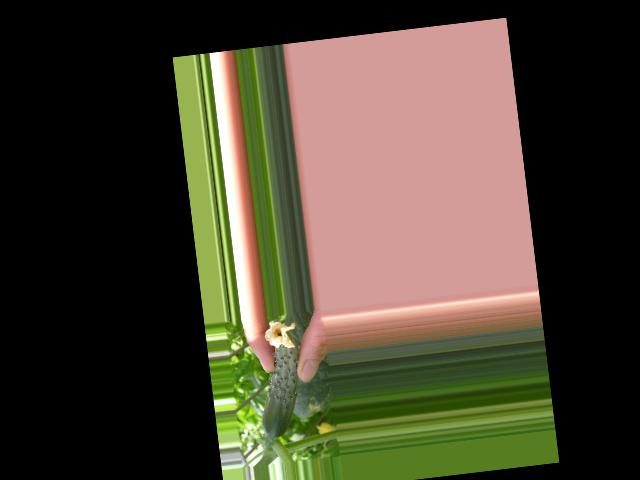cucumber: (250, 319, 308, 439)
